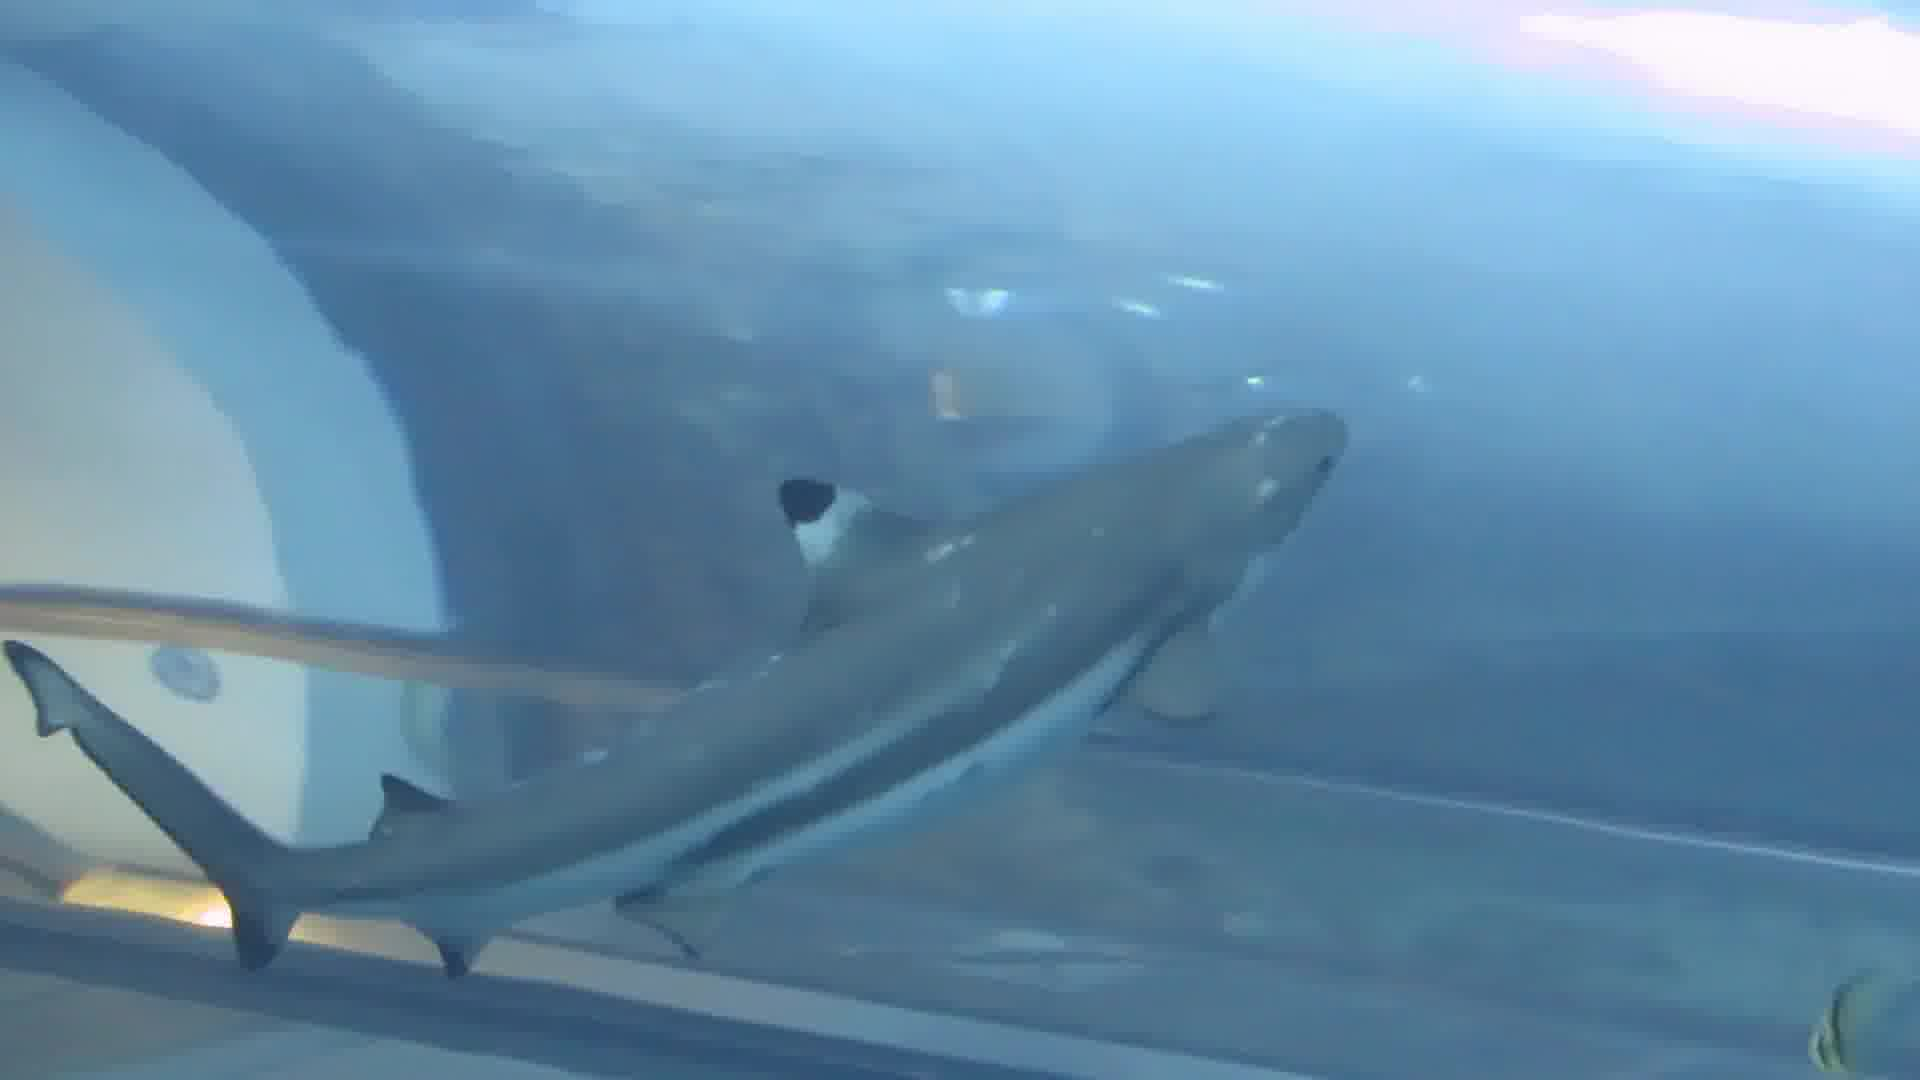Carcharhinus melanopterus: (1, 411, 1407, 964)
